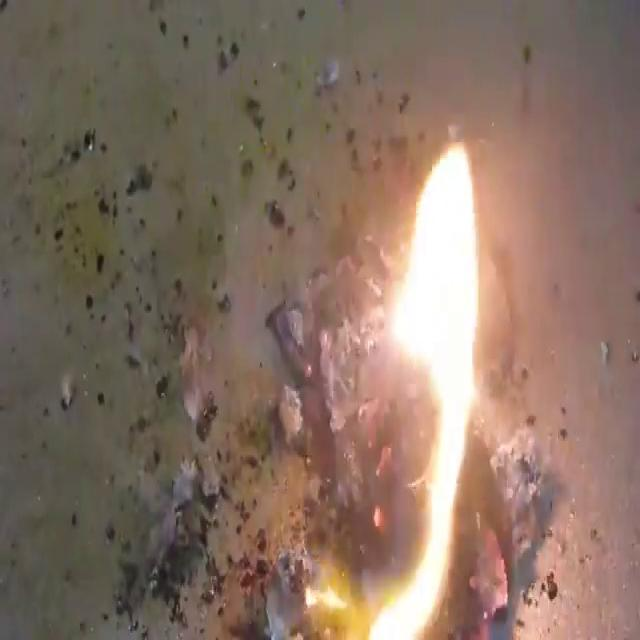Fire: (195, 103, 578, 640)
